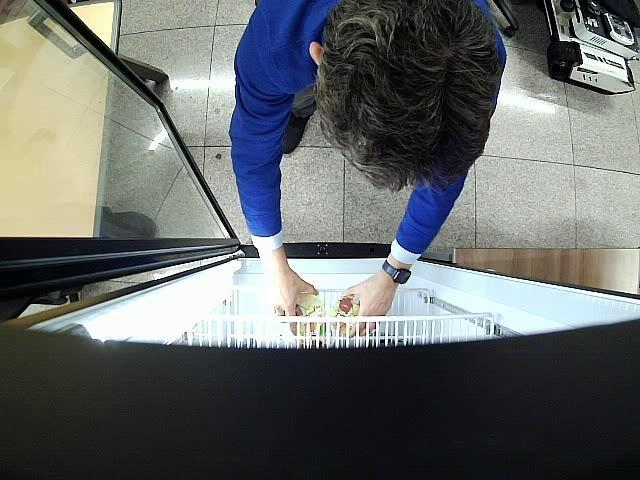04_chapagetti_S: (329, 294, 360, 336), (296, 293, 325, 336)
